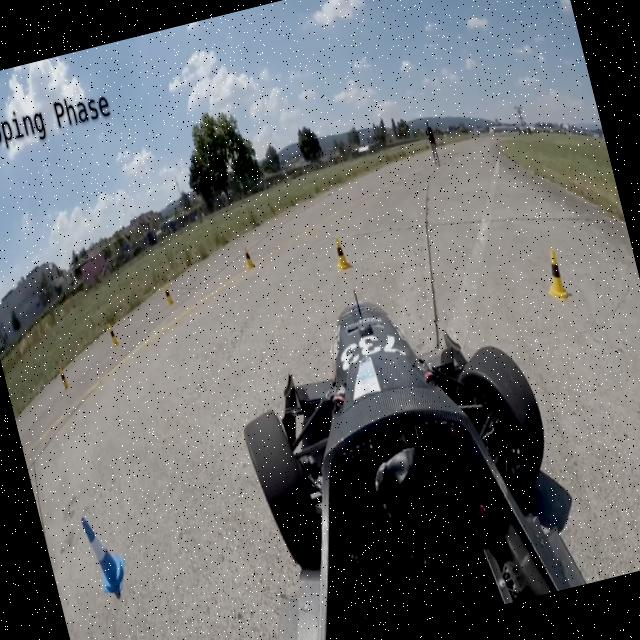blue_cone: (80, 508, 132, 596)
yellow_cone: (537, 245, 571, 305), (330, 236, 352, 272), (106, 322, 122, 348), (242, 246, 256, 270), (57, 365, 70, 389), (162, 282, 175, 306)
